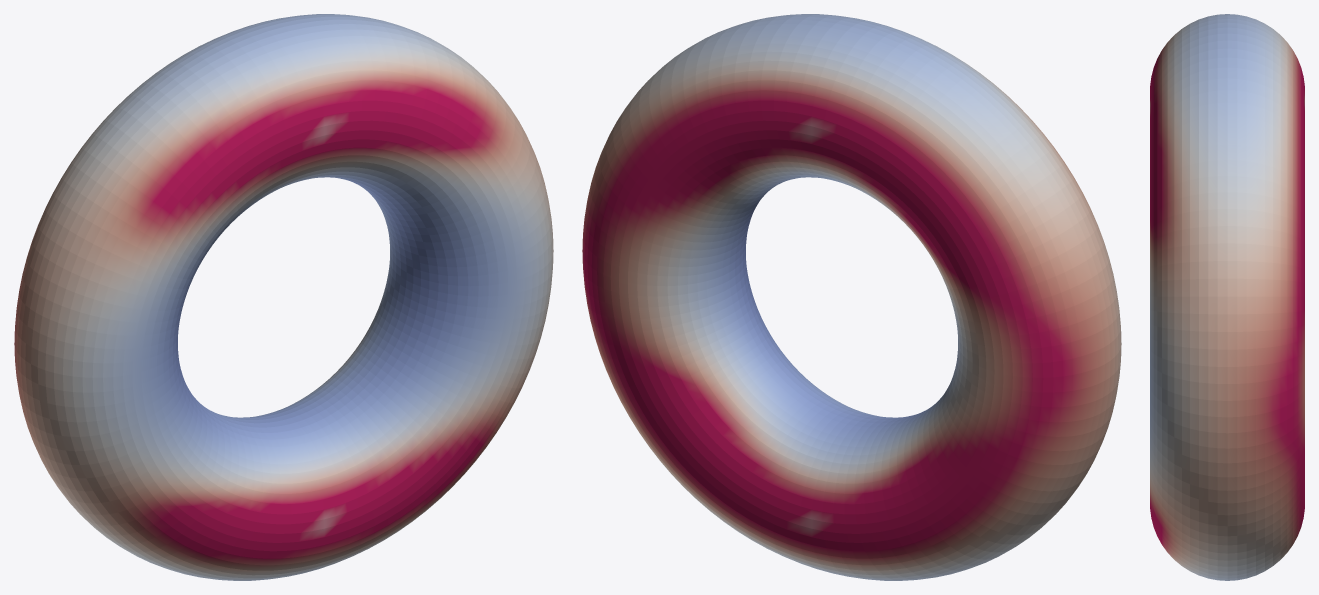
3 renders of one model, left to right at view 1: azimuth 30°, elevation 25°; view 2: azimuth 150°, elevation 25°; view 3: azimuth 270°, elevation 25°, orthographic. The views are drawn at different scales.
Visible parts, largest first — view 1: world; view 2: world; view 3: world.
Part boxes in pixels (x1,y1,x2,y2): world: [14, 14, 553, 580]; world: [582, 14, 1121, 580]; world: [1150, 14, 1304, 580].
Bounding box in the file's own units: 23.87 × 23.87 × 6.52.
